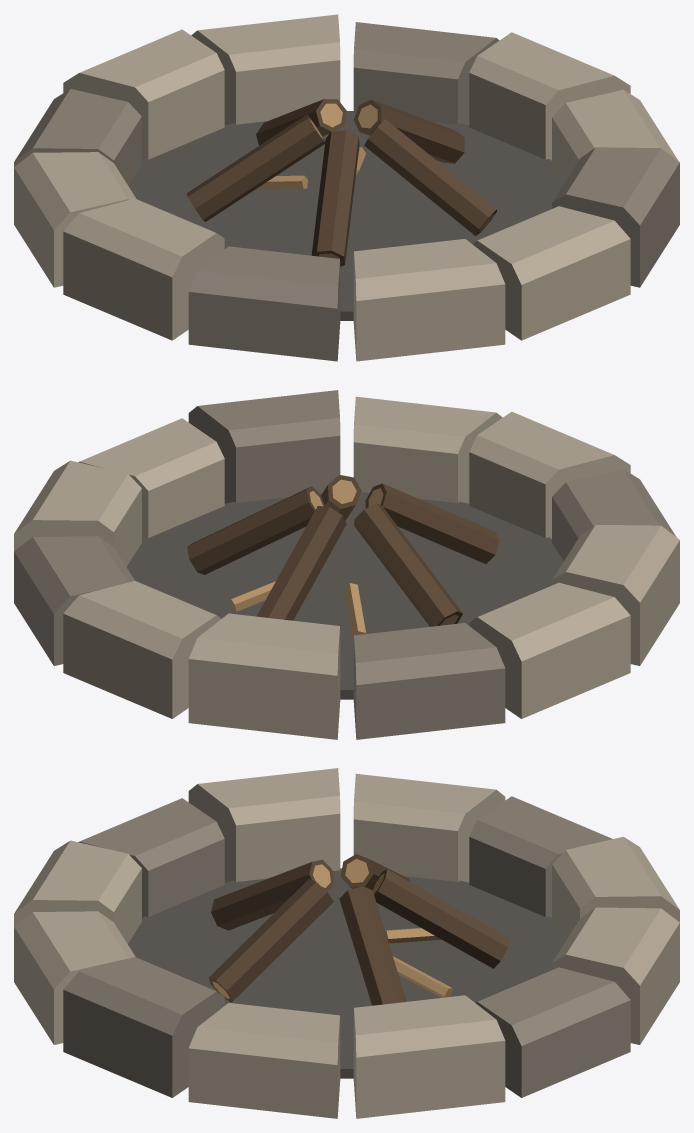
3 renders of one model, top to bottom at view 1: azimuth 30°, elevation 25°; view 2: azimuth 150°, elevation 25°; view 3: azimuth 270°, elevation 25°, orthographic.
Parts seen in each view (by area): view 1: C05_geo; view 2: C05_geo; view 3: C05_geo.
Part boxes in pixels (x1=…): C05_geo: x1=14, y1=14, x2=679, y2=361; C05_geo: x1=14, y1=390, x2=679, y2=739; C05_geo: x1=14, y1=768, x2=679, y2=1118.
Bounding box in the file's own units: 3.2 × 0.5705 × 3.2.
